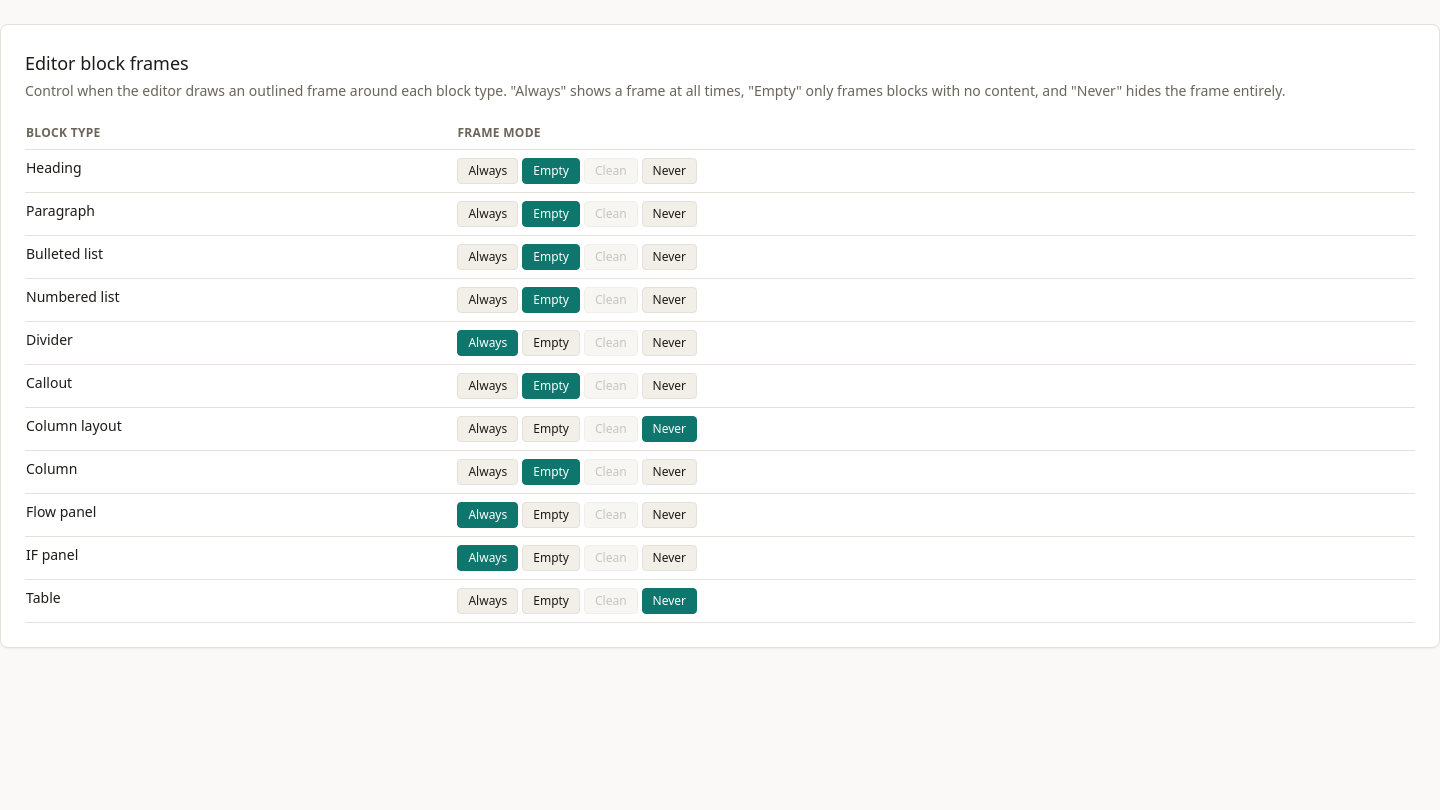
Scenario: BlockFramesSection › renders inline error in the affected row only on save failure
Click the button "Never" in the row of "Callout" at (669, 386), box 642,373 -> 697,399
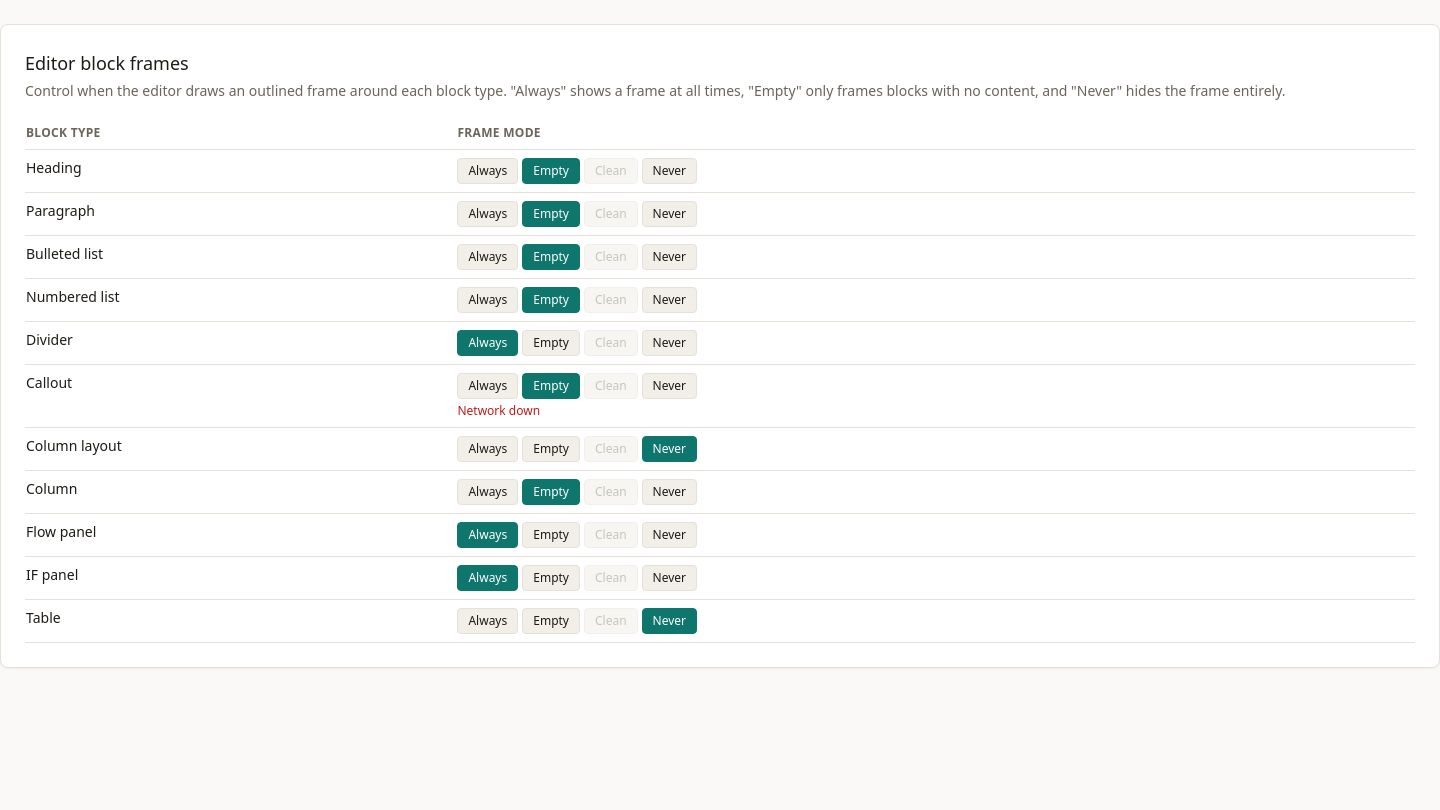
Now the message reads "Network down", box 457,402 -> 540,419
